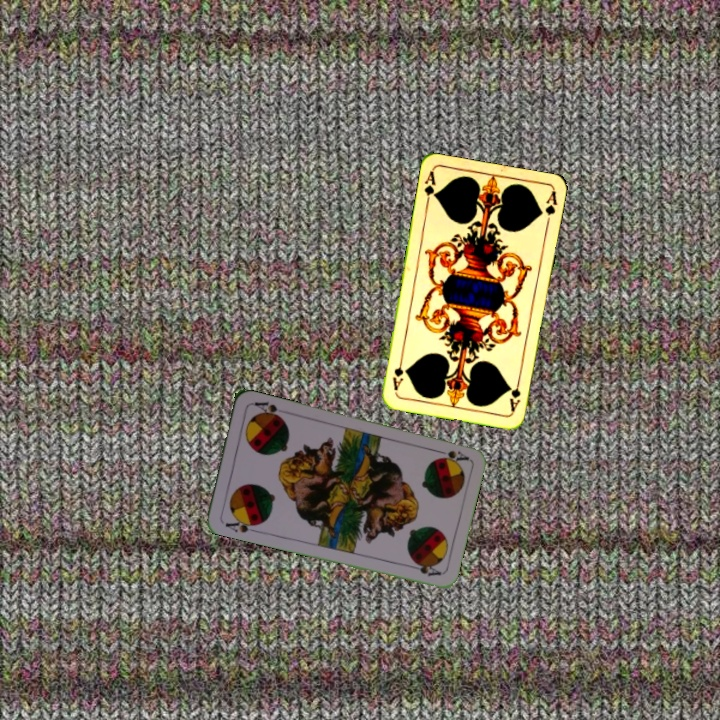GA: (420, 167, 439, 208), (505, 374, 523, 414)
SA: (221, 513, 260, 535), (431, 445, 471, 464)
